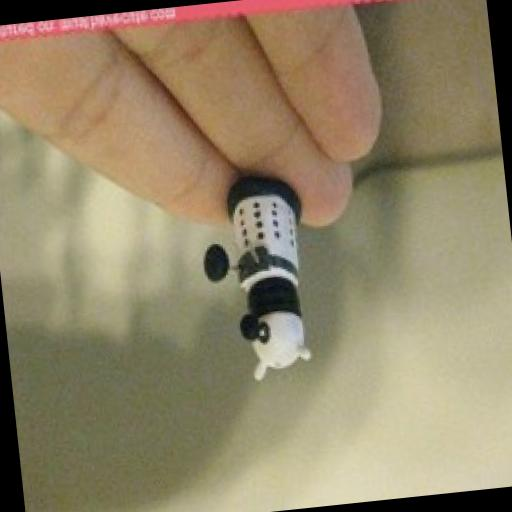dalek: (194, 170, 324, 388)
